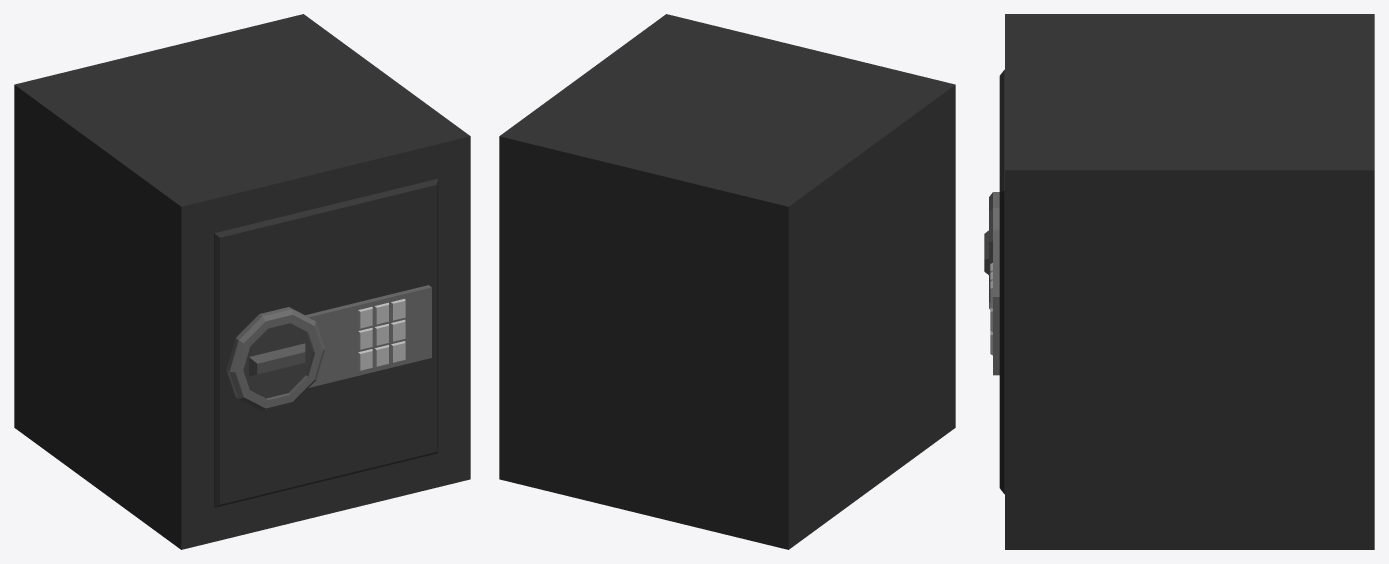
Rendered from Int_Safe01.fbx.
3 renders of one model, left to right at view 1: azimuth 30°, elevation 25°; view 2: azimuth 150°, elevation 25°; view 3: azimuth 270°, elevation 25°, orthographic. The views are drawn at different scales.
Parts seen in each view (by area): view 1: Int_Safe01, Int_SafeDoor01; view 2: Int_Safe01; view 3: Int_Safe01, Int_SafeDoor01.
Part boxes in pixels (x1,y1,x2,y2): Int_Safe01: [14, 14, 470, 549]; Int_SafeDoor01: [214, 178, 438, 507]; Int_Safe01: [499, 14, 955, 549]; Int_Safe01: [1005, 14, 1374, 549]; Int_SafeDoor01: [984, 69, 1004, 494].
Size of what is drawn, in the model's own units: 75 by 79.22 by 85.
